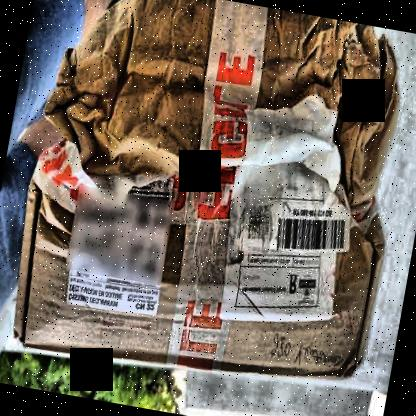defect parcel: (13, 0, 416, 278)
